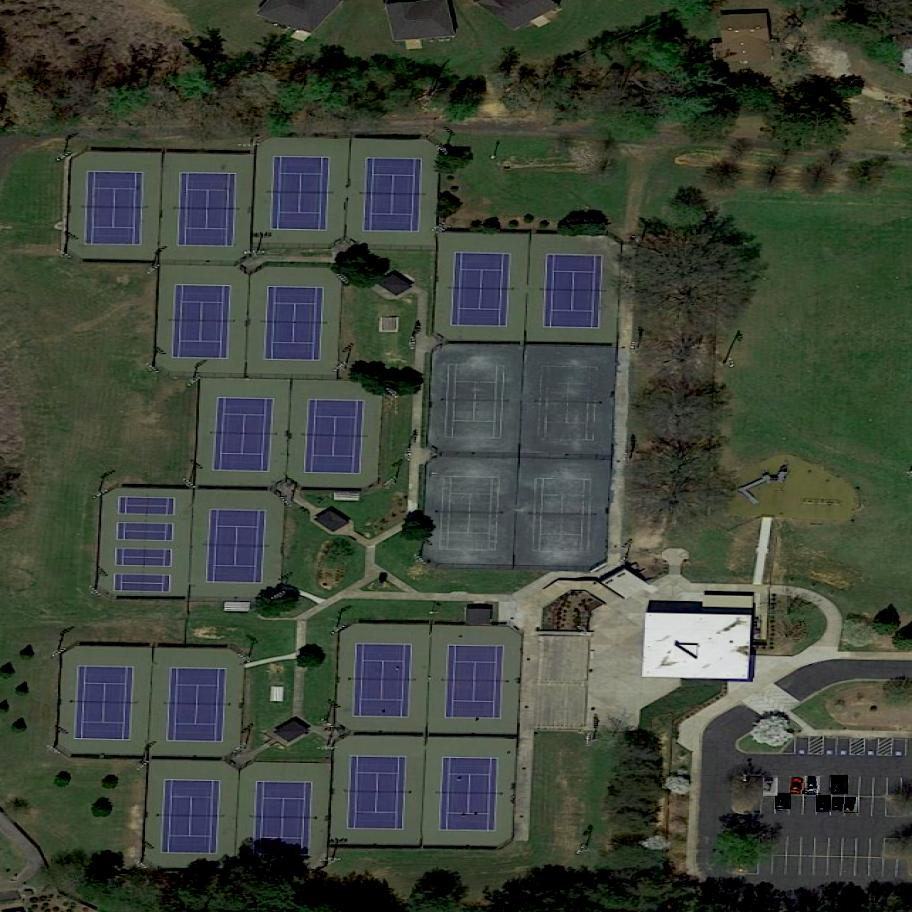small-vehicle: (831, 775, 849, 795), (816, 794, 832, 814), (791, 777, 806, 795), (763, 778, 778, 796), (775, 794, 791, 810), (805, 777, 820, 794), (845, 798, 857, 812), (832, 798, 846, 810)
